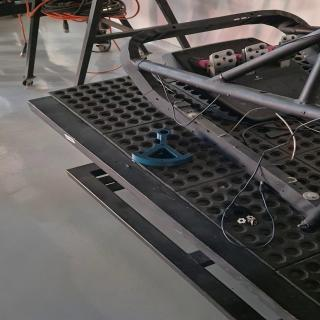haptic: (131, 129, 194, 167)
